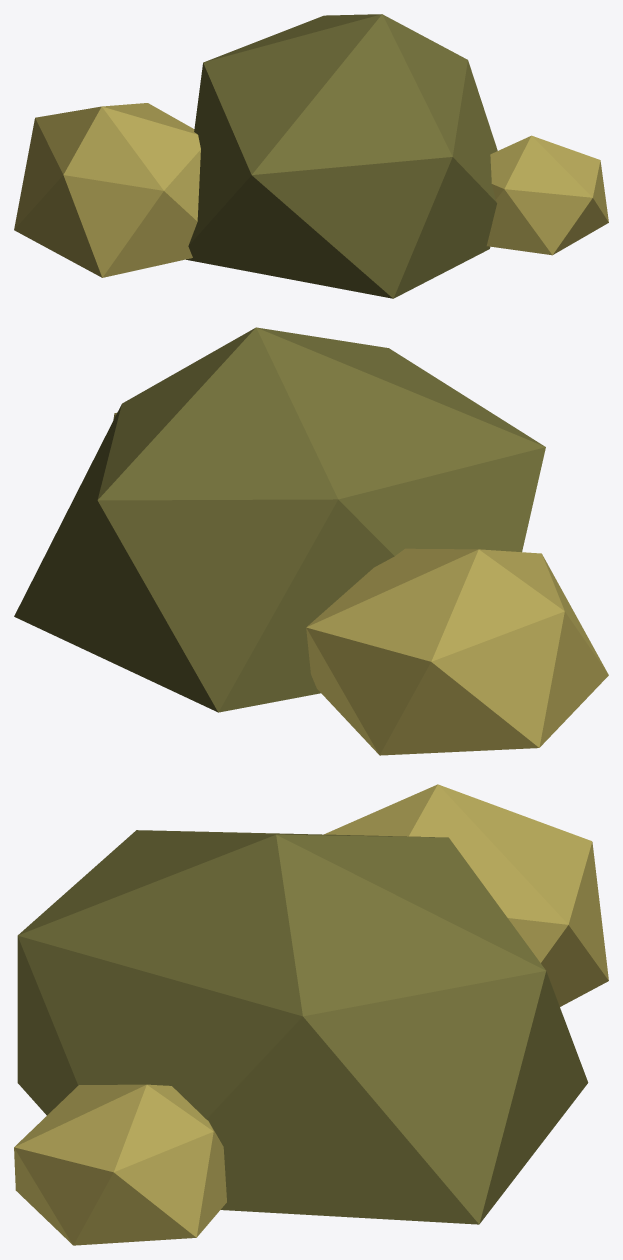
The model's file is F_Bush_02.fbx.
The picture shows the model from 3 angles, top to bottom: view 1: azimuth 30°, elevation 25°; view 2: azimuth 150°, elevation 25°; view 3: azimuth 270°, elevation 25°; orthographic projection. The views are drawn at different scales.
Visible parts, largest first — view 1: F_Bush_01; view 2: F_Bush_01; view 3: F_Bush_01.
Boxes of the visible parts, bbox=[...] form: F_Bush_01: bbox=[14, 14, 608, 298]; F_Bush_01: bbox=[14, 327, 608, 755]; F_Bush_01: bbox=[14, 784, 608, 1245].
Bounding box in the file's own units: 118 × 50.2 × 89.31.
